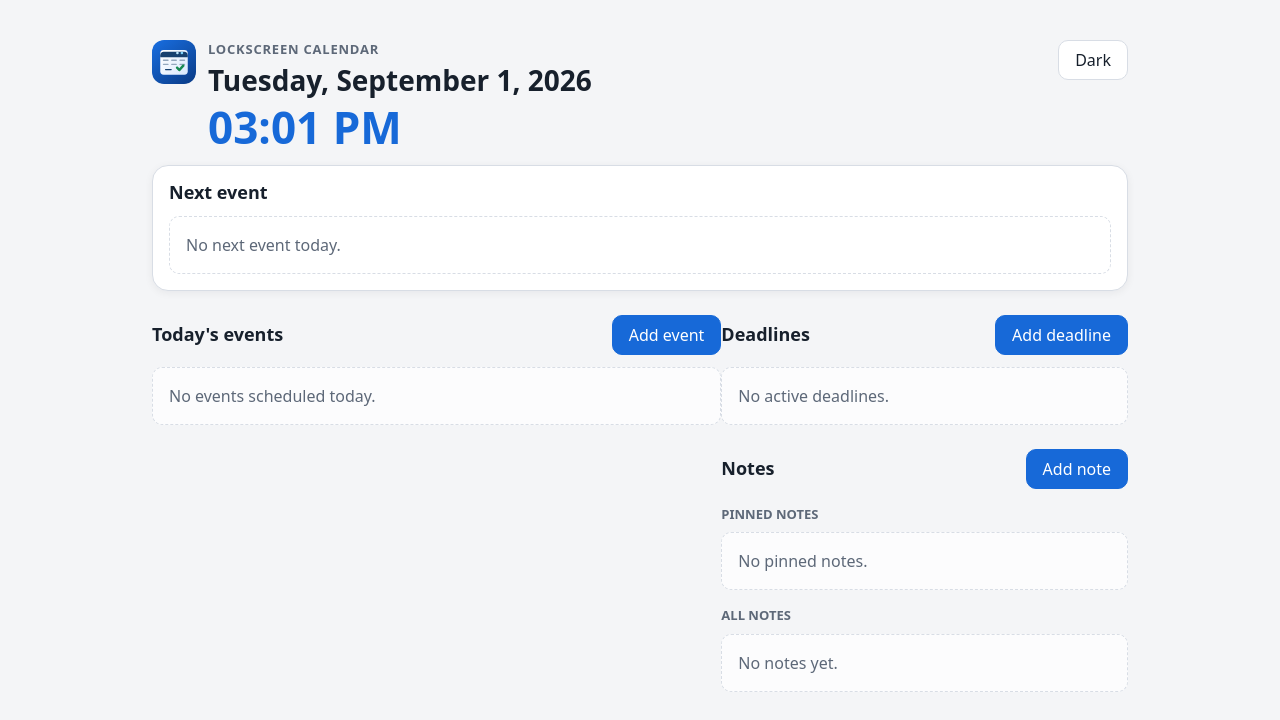
Scenario: App › adds and completes a deadline
This screenshot has width=1280, height=720.
Click the button "Add deadline". click: (1062, 335)
box: x1=995 y1=315 x2=1128 y2=355
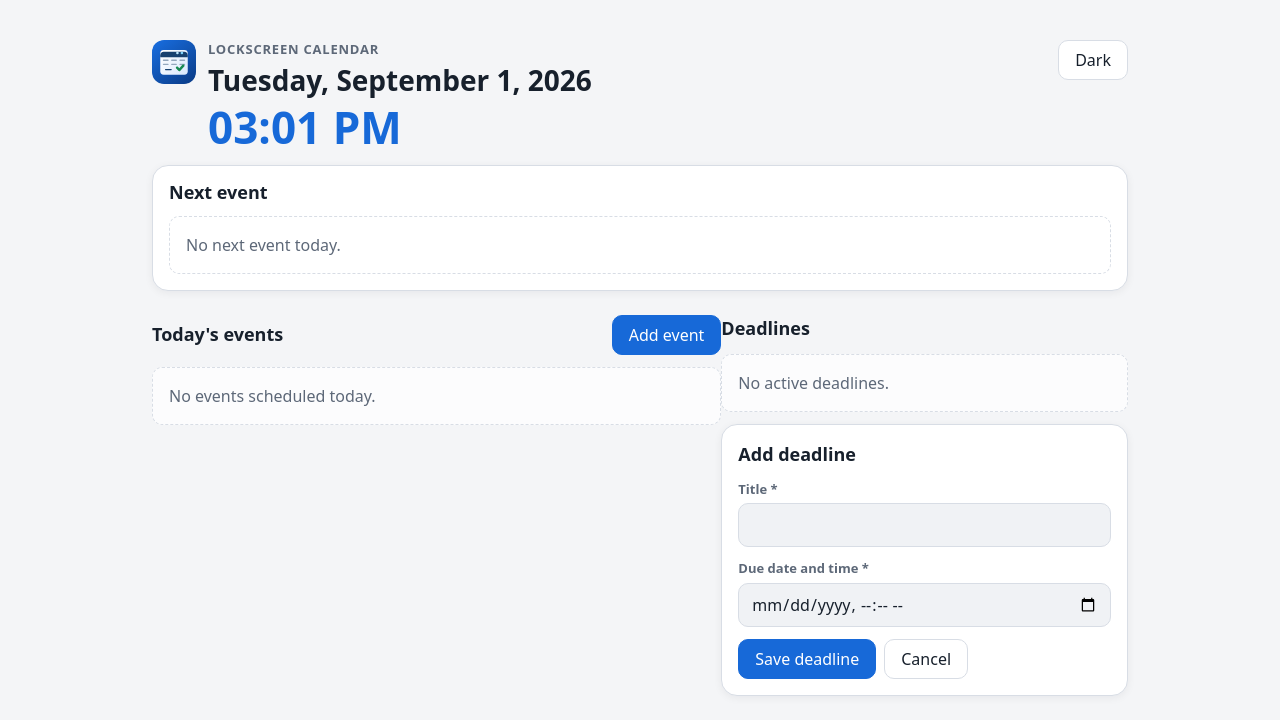
Type "Submit assignment" into the field labelled "Title *". click: (925, 525)
box: x1=738 y1=503 x2=1111 y2=547
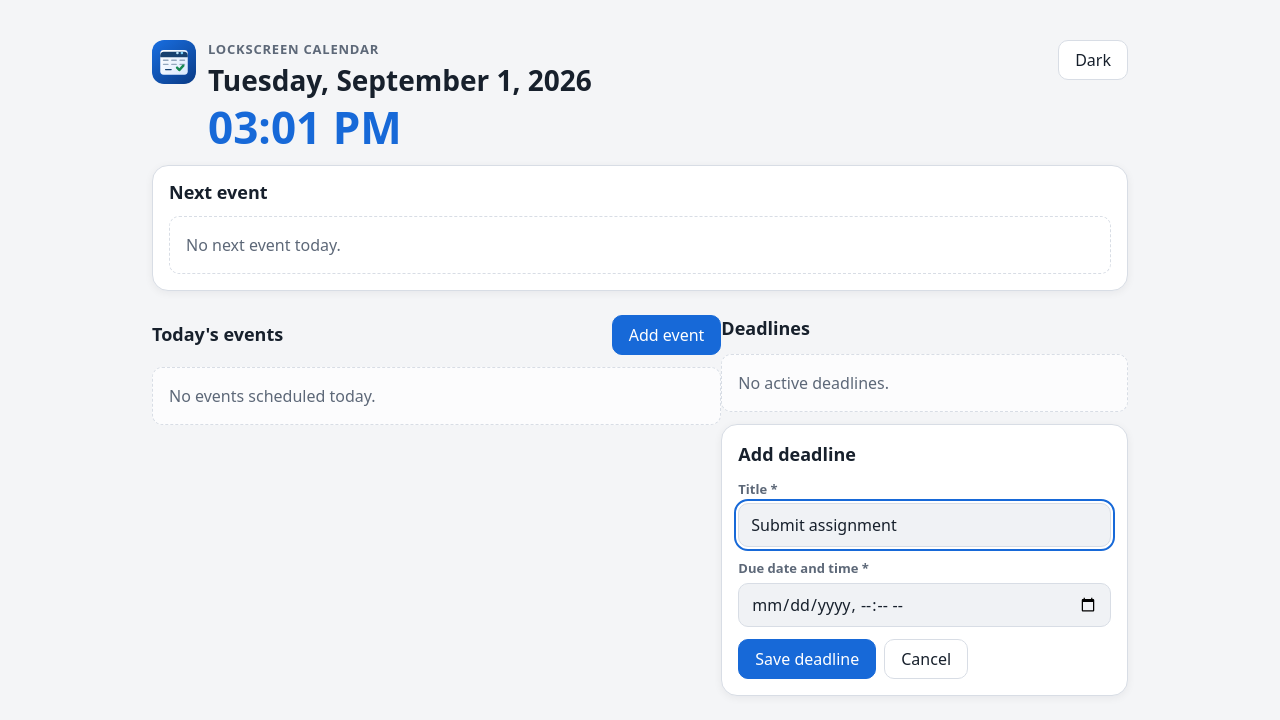
Type "2026-08-25T10:00" into the field labelled "Due date and time *". click: (925, 605)
box: x1=738 y1=583 x2=1111 y2=627
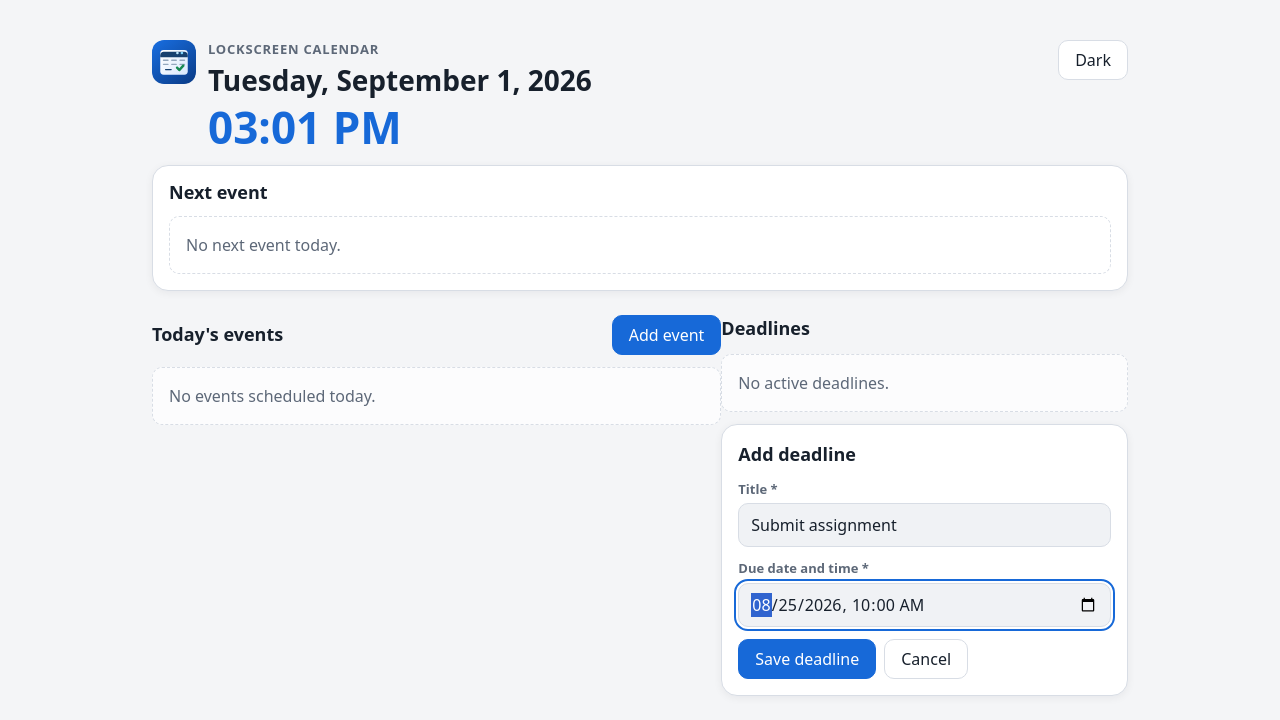
Click the button "Save deadline". click: (807, 659)
box: x1=738 y1=639 x2=876 y2=679
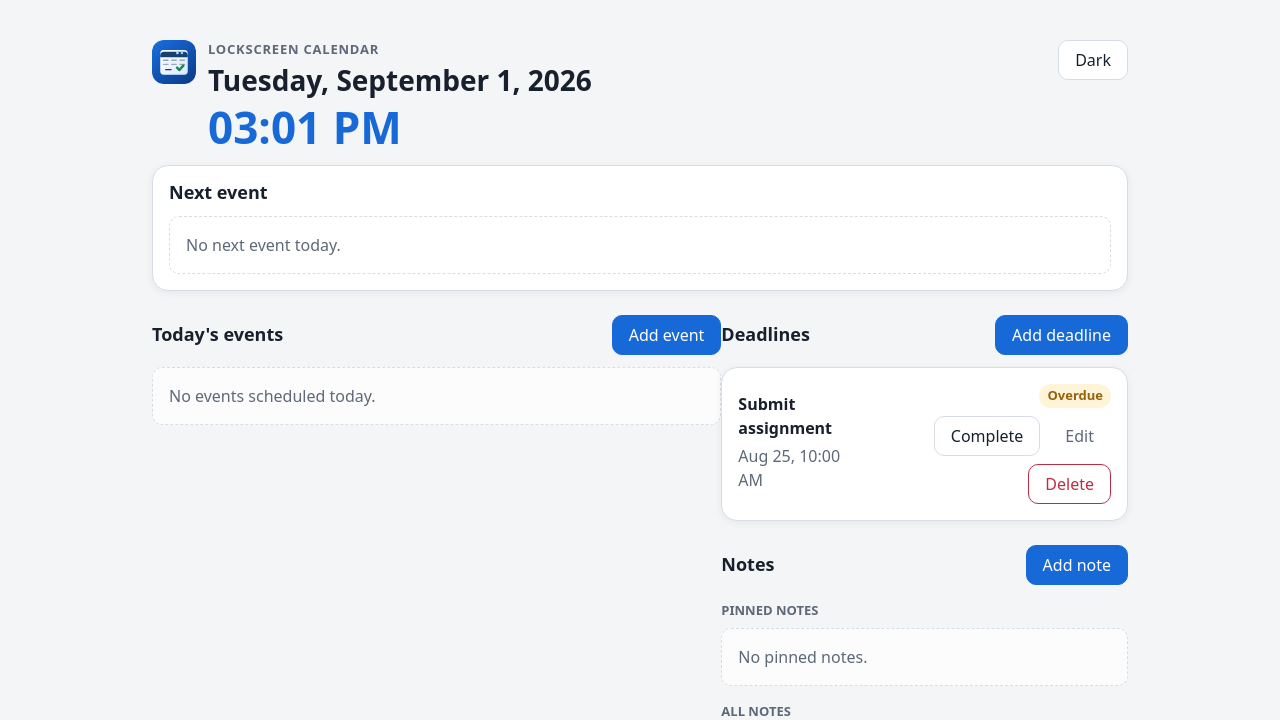
Expected: the heading "Submit assignment" is shown, x1=738 y1=393 x2=832 y2=439
Click the button "Complete". click: (987, 436)
box: x1=934 y1=416 x2=1040 y2=456
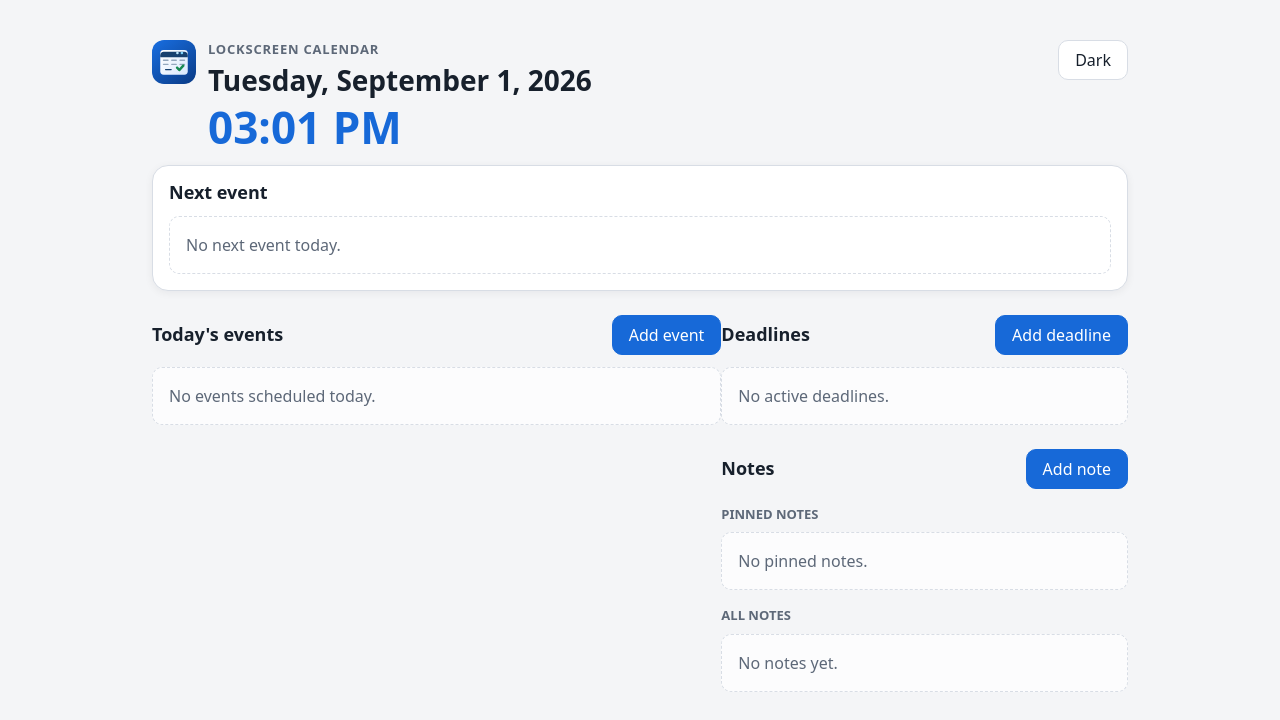
Expected: the text "No active deadlines." is shown, x1=721 y1=367 x2=1128 y2=425
